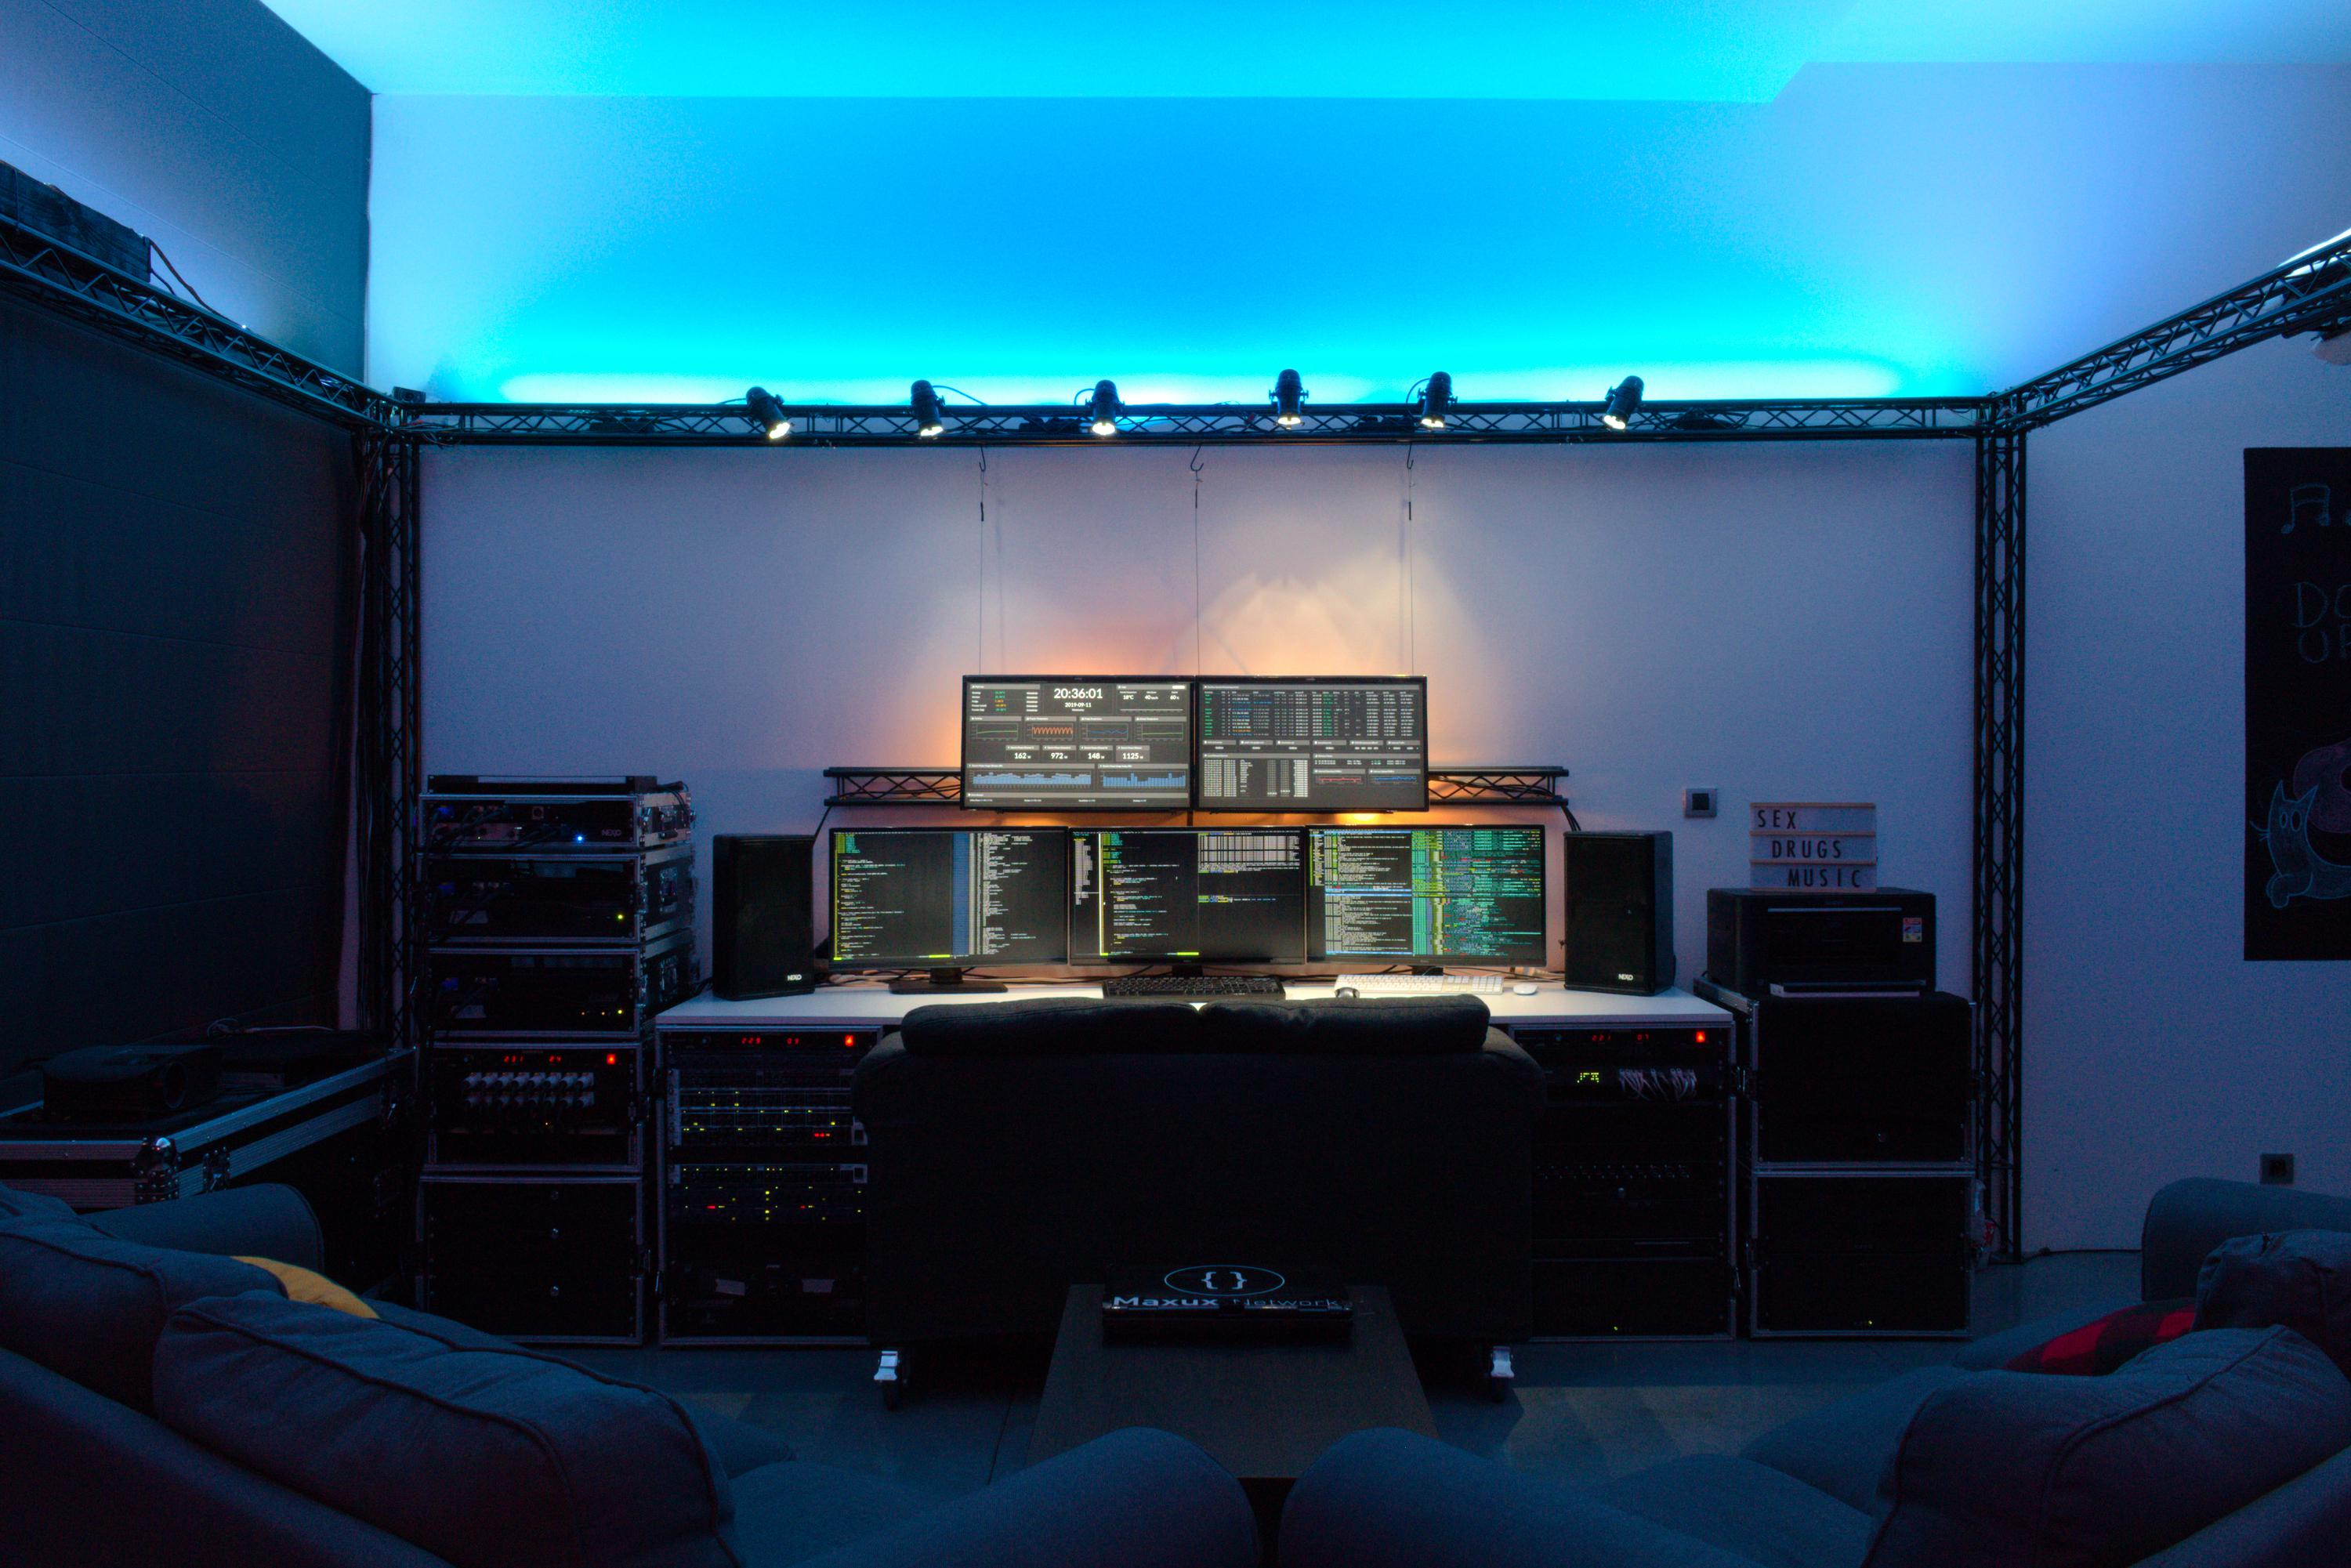Desk (Generic): (658, 989, 1732, 1024)
External Speakers (Subwoofers): (1560, 822, 1681, 999), (715, 833, 822, 1003)
Keyboard (Generic): (1100, 975, 1286, 999), (1335, 971, 1503, 996)
Monitor (Landscape): (1307, 826, 1546, 968), (829, 828, 1067, 966), (1071, 826, 1305, 964), (964, 674, 1191, 814), (1200, 677, 1429, 810)
Mouse (Generic): (1511, 975, 1539, 996), (1335, 983, 1359, 999)
Printer: (1704, 885, 1940, 997)
